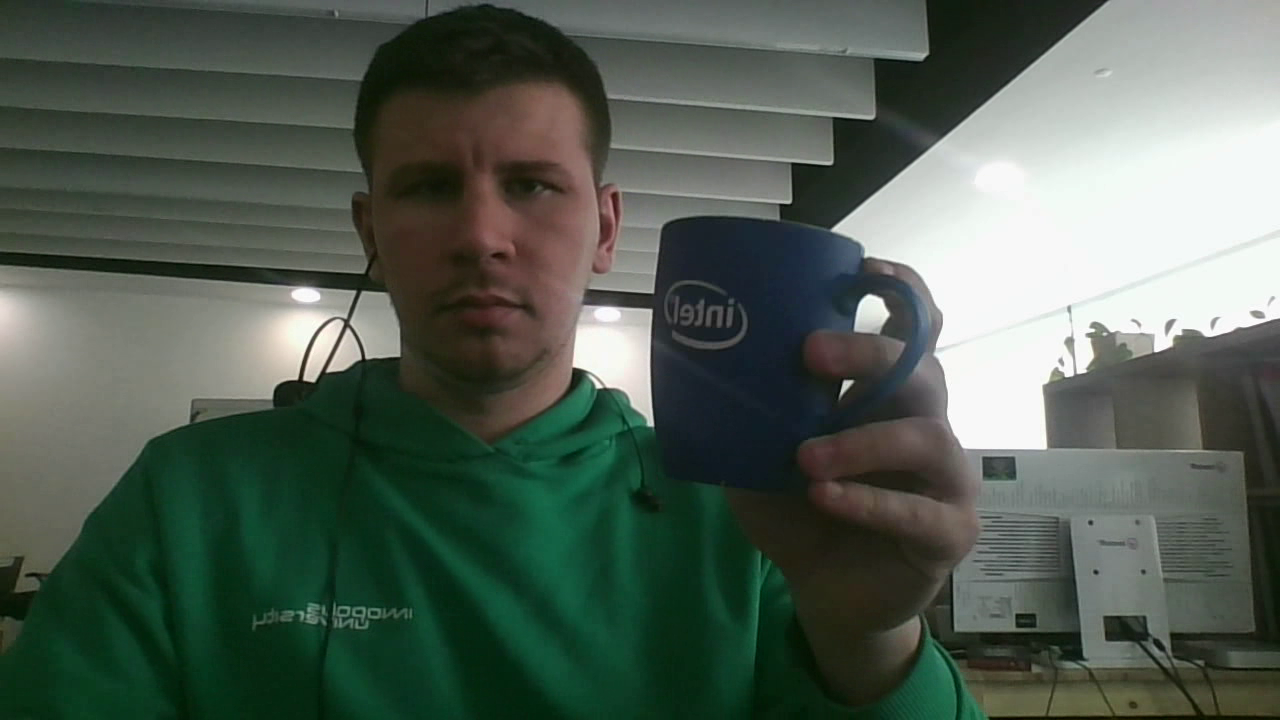cup: (652, 217, 931, 489)
